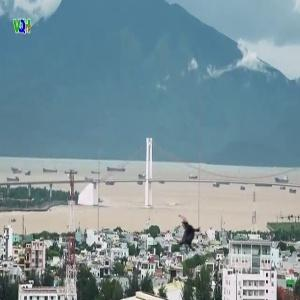drone: (169, 216, 209, 256)
